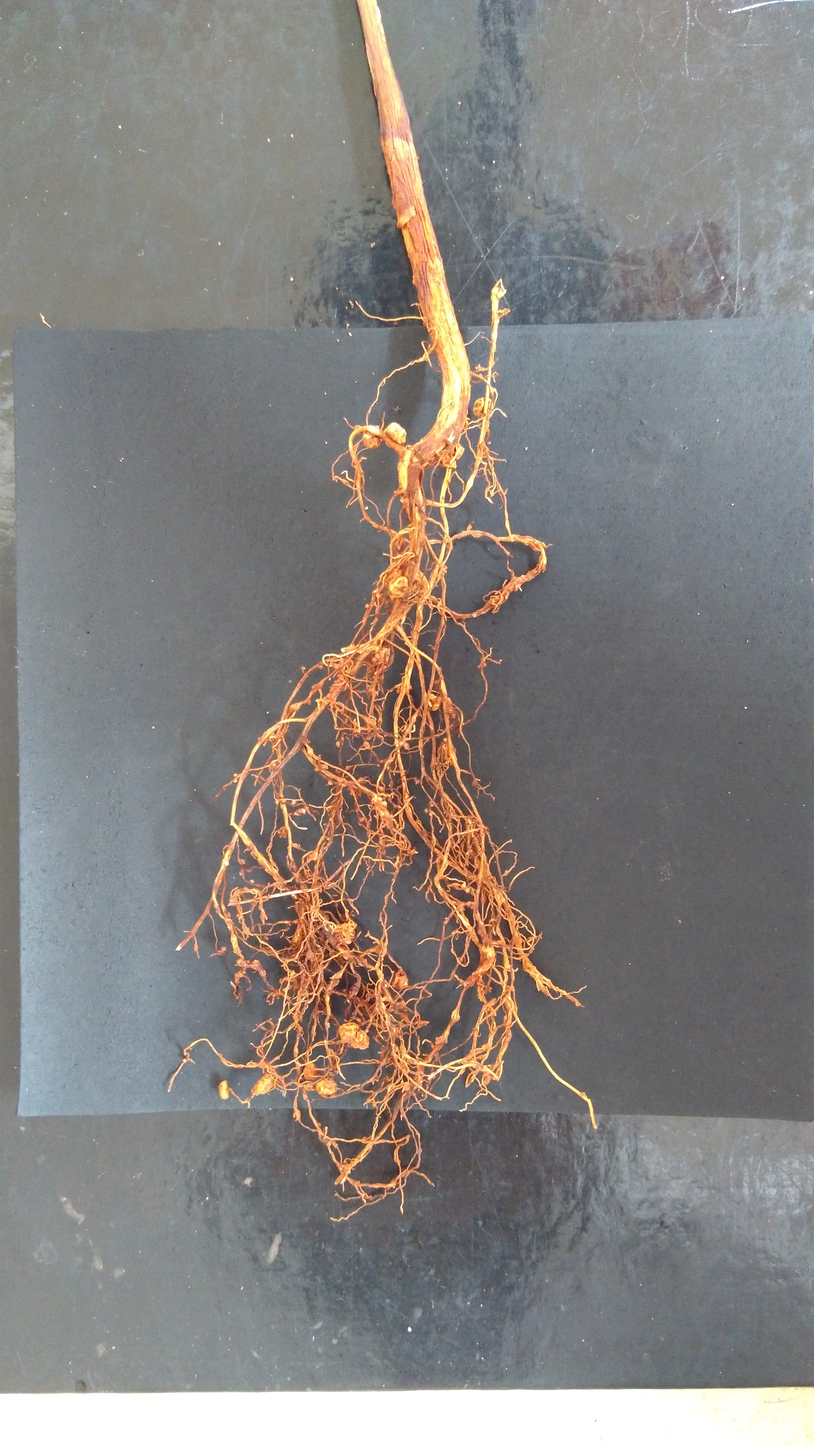nodule: (338, 1021, 370, 1050), (331, 919, 358, 945), (412, 569, 431, 602), (386, 574, 409, 601), (383, 422, 406, 448), (251, 1073, 275, 1096), (361, 424, 382, 449), (370, 645, 391, 670), (440, 737, 458, 766), (315, 1077, 338, 1098), (438, 694, 457, 719), (473, 397, 494, 419), (436, 449, 457, 469), (430, 559, 448, 581), (391, 968, 409, 990), (302, 1061, 320, 1080), (388, 1000, 408, 1016), (321, 978, 339, 995), (257, 731, 277, 746), (372, 665, 388, 681), (427, 693, 441, 711), (218, 1080, 230, 1100), (371, 796, 388, 810), (334, 663, 349, 678), (395, 533, 405, 554), (347, 785, 363, 798), (454, 442, 465, 460), (396, 683, 412, 694), (352, 717, 363, 733), (277, 825, 288, 838), (293, 807, 306, 817), (434, 1035, 447, 1045), (314, 764, 329, 772), (401, 1081, 411, 1091), (306, 950, 315, 961), (474, 363, 486, 371), (353, 424, 362, 432), (513, 583, 521, 592), (477, 662, 486, 670), (293, 1109, 301, 1118), (403, 741, 410, 751), (378, 807, 385, 817), (457, 904, 465, 912), (470, 904, 479, 911), (502, 307, 511, 314), (233, 772, 238, 784), (363, 741, 370, 749), (357, 777, 365, 784), (414, 776, 420, 785), (466, 524, 473, 531), (489, 598, 496, 605), (466, 900, 472, 908), (335, 740, 341, 747), (377, 785, 384, 791), (291, 799, 298, 805), (240, 858, 246, 865), (479, 373, 484, 381), (364, 603, 370, 609), (372, 600, 377, 607), (375, 592, 380, 599), (359, 816, 364, 823), (424, 807, 429, 814), (494, 595, 500, 600), (433, 679, 438, 685), (327, 780, 333, 785), (356, 1016, 361, 1022), (238, 870, 243, 876), (344, 717, 349, 723), (504, 595, 509, 600), (318, 664, 323, 669), (430, 803, 435, 808), (428, 812, 433, 817), (250, 879, 254, 883), (341, 736, 344, 740)
